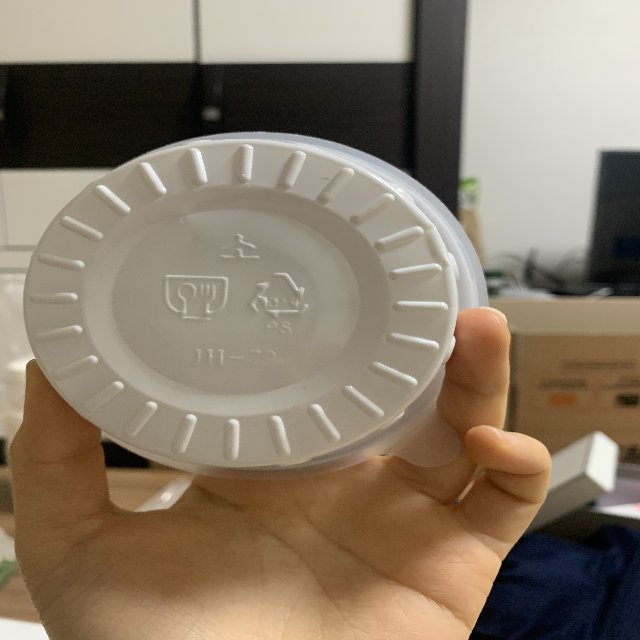ps: (244, 268, 313, 342)
